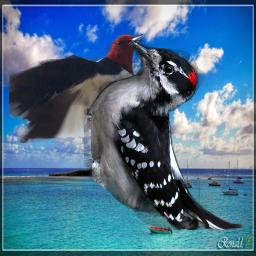Woodpecker: (84, 40, 244, 230), (9, 28, 158, 143)
